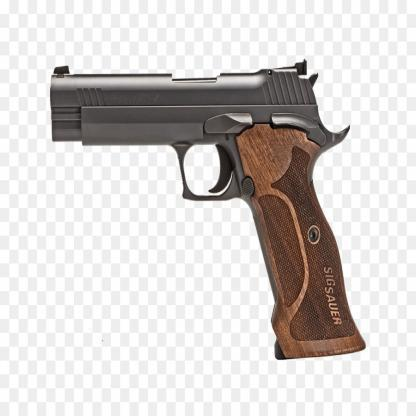gun: (45, 47, 373, 384)
